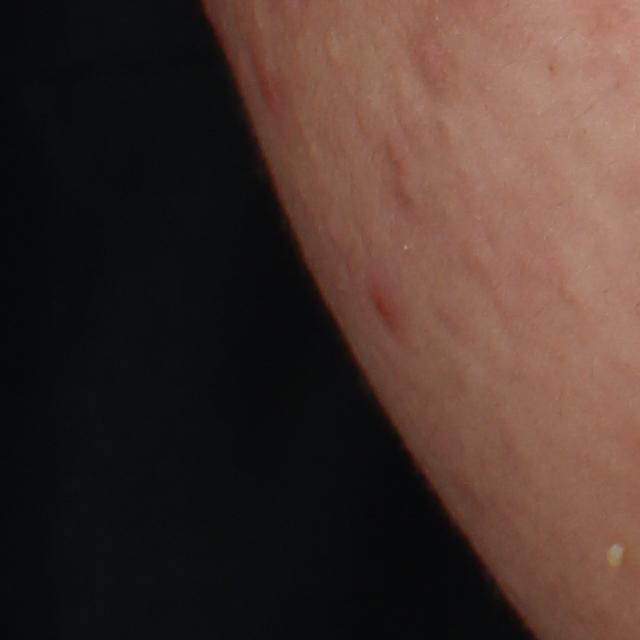comedo: (320, 28, 345, 72)
other: (604, 541, 630, 574)
papule: (252, 47, 286, 112), (366, 279, 406, 332), (382, 137, 406, 174)
